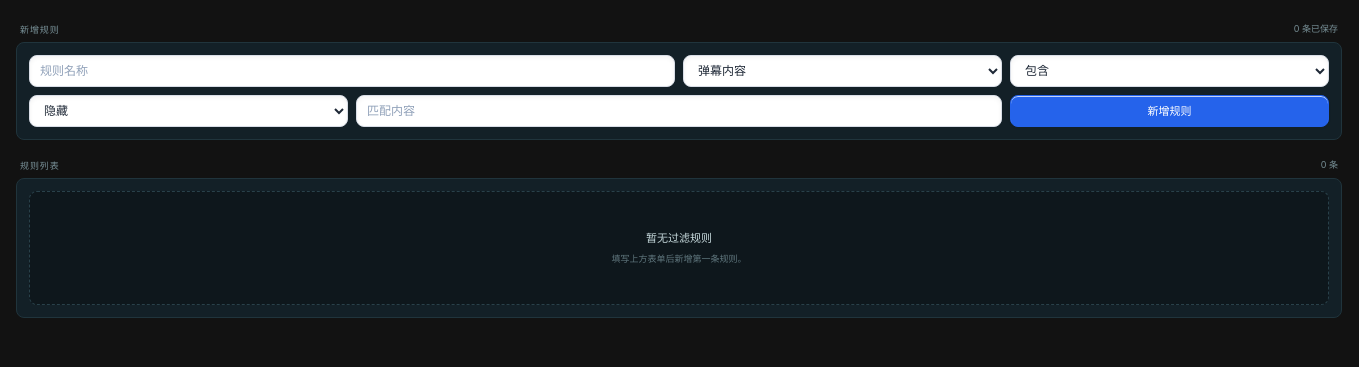
Test: shows grouped empty state and rejects empty rule values
The width and height of the screenshot is (1359, 367).
Step 1. Click the button "新增规则" → (1170, 111), box [1010,95,1329,127]
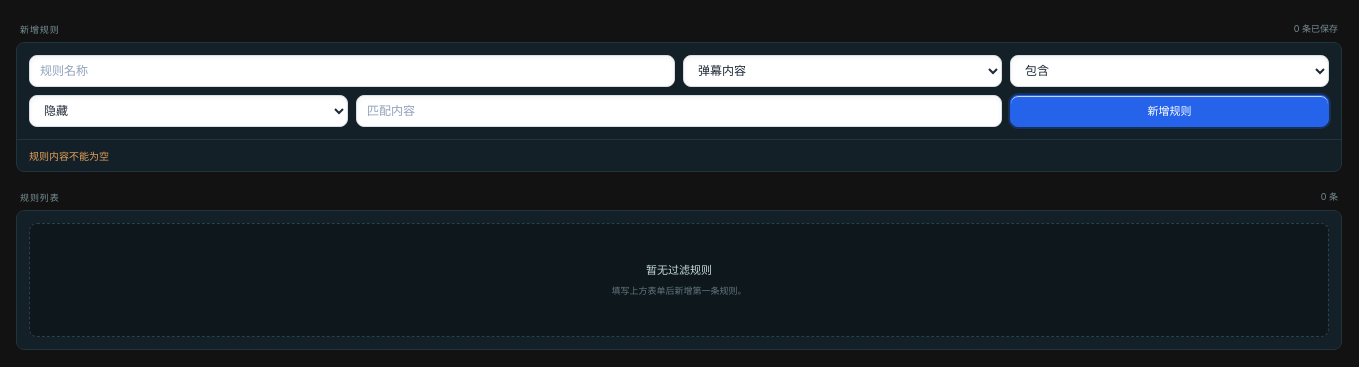
Check: the element "新增规则" is shown, box [16,16,1342,172]
Check: the message reads "规则内容不能为空", box [29,150,109,162]
